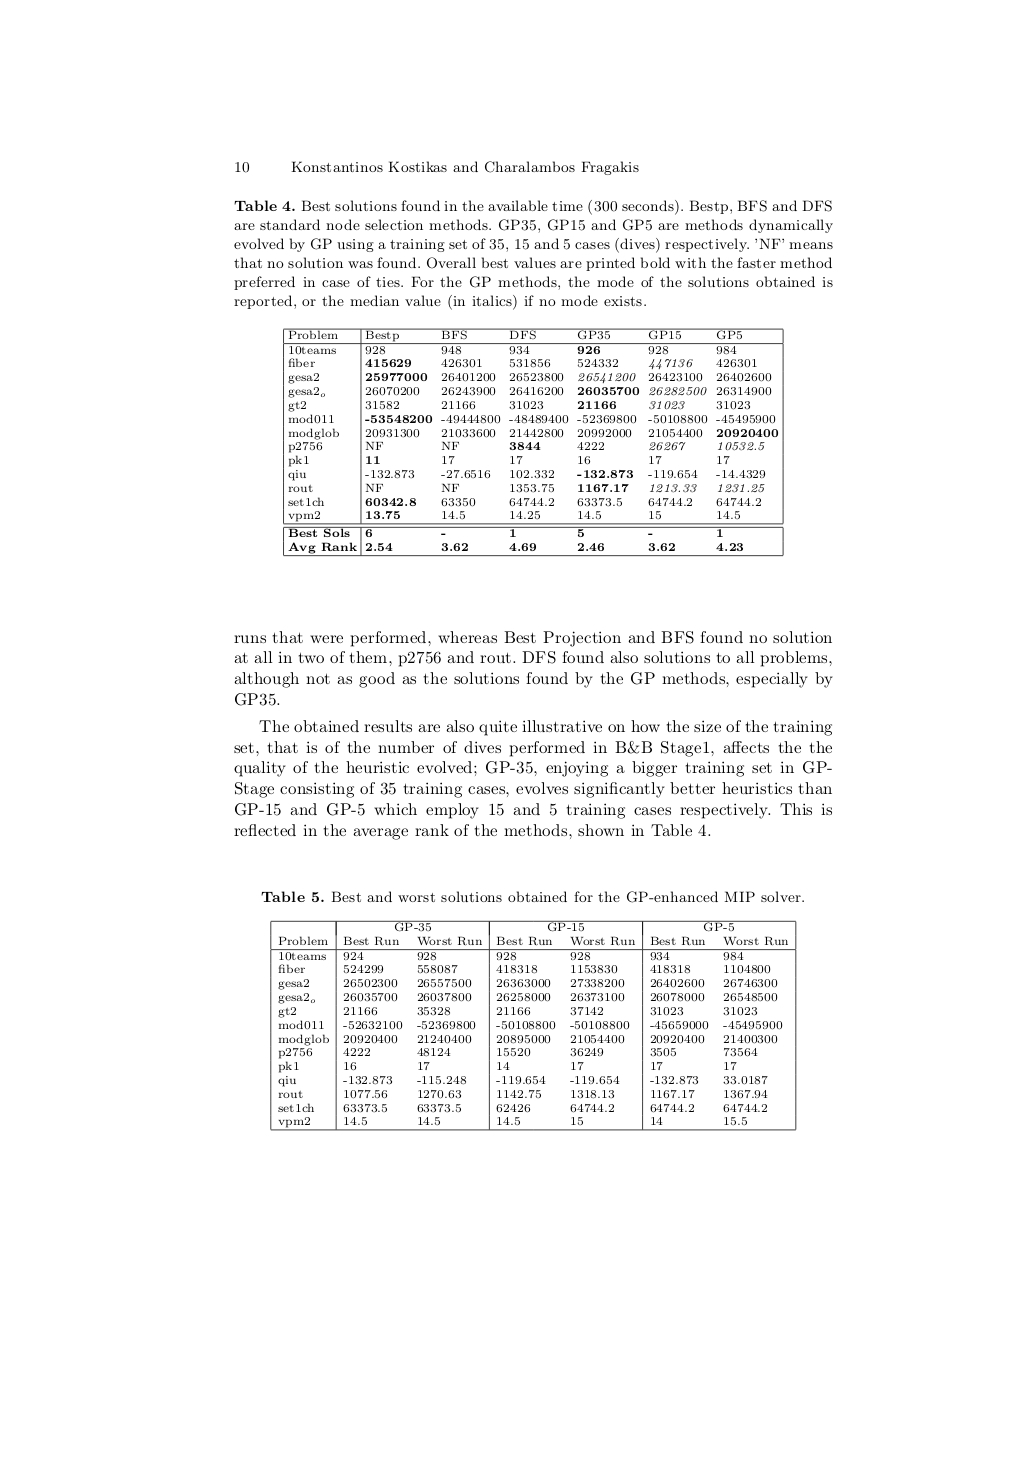Table: (283, 327, 783, 557), (270, 919, 796, 1131)
